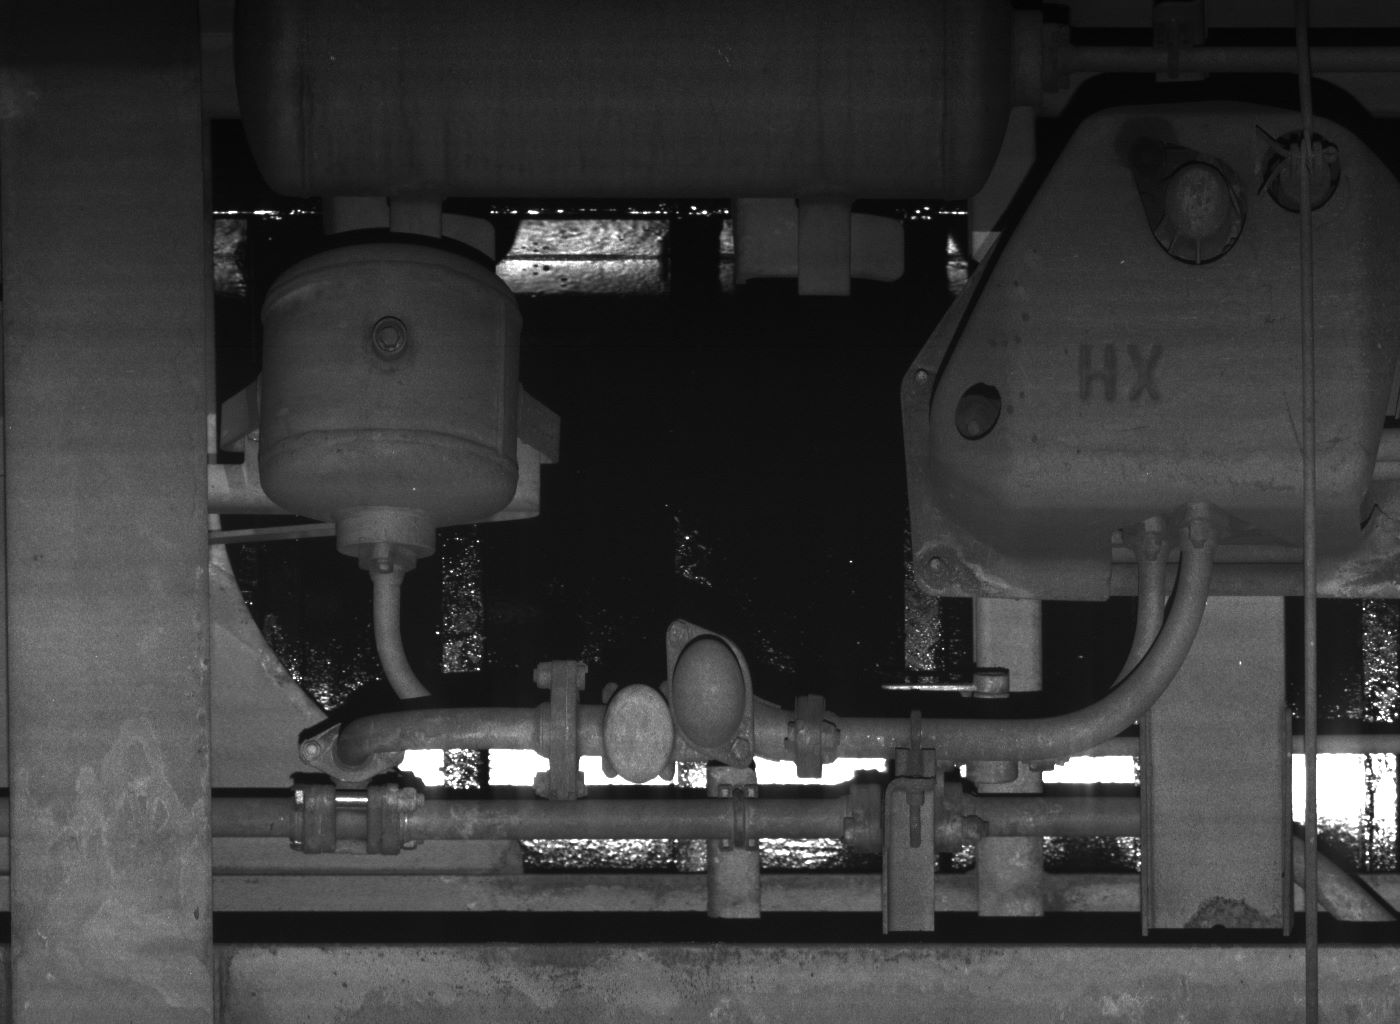normal: (599, 680, 677, 781)
